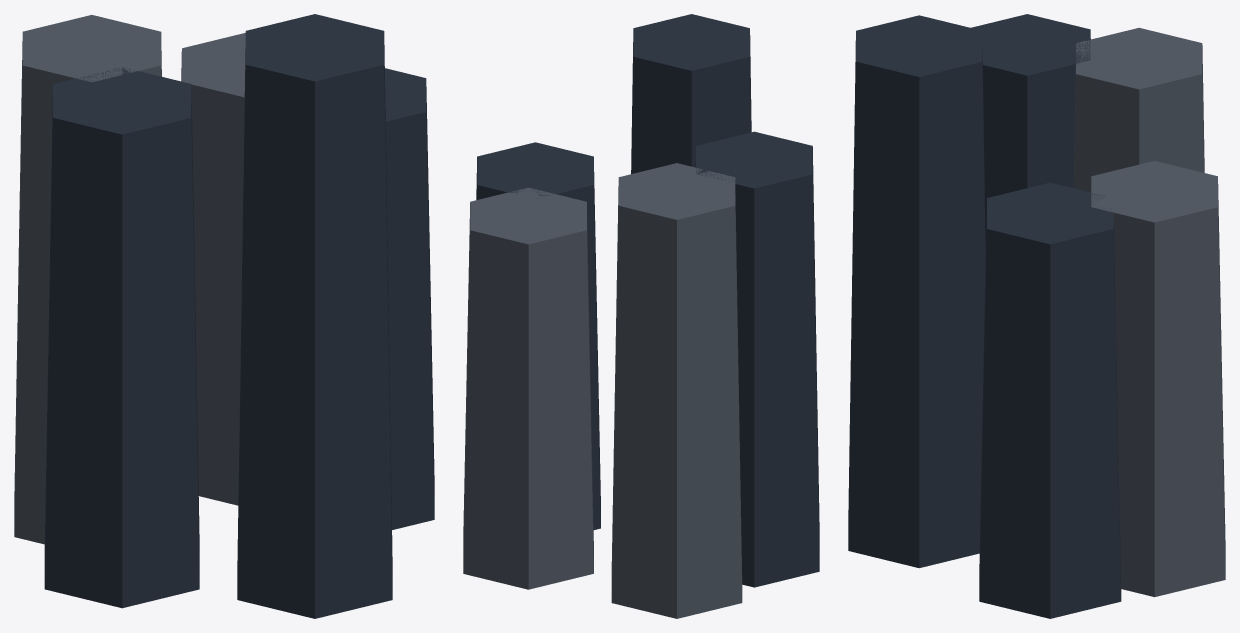
Rendered from basalt-spires.glb.
3 views of the same model, side by side, from view 1: azimuth 30°, elevation 25°; view 2: azimuth 150°, elevation 25°; view 3: azimuth 270°, elevation 25° (orthographic). The views are drawn at different scales.
Parts seen in each view (by area): view 1: basalt-spires__body; view 2: basalt-spires__body; view 3: basalt-spires__body.
Part boxes in pixels (x1,y1,x2,y2): basalt-spires__body: (14, 14, 434, 618); basalt-spires__body: (463, 14, 819, 618); basalt-spires__body: (848, 14, 1225, 618).
Bounding box in the file's own units: 1.45 × 1.84 × 1.29.
